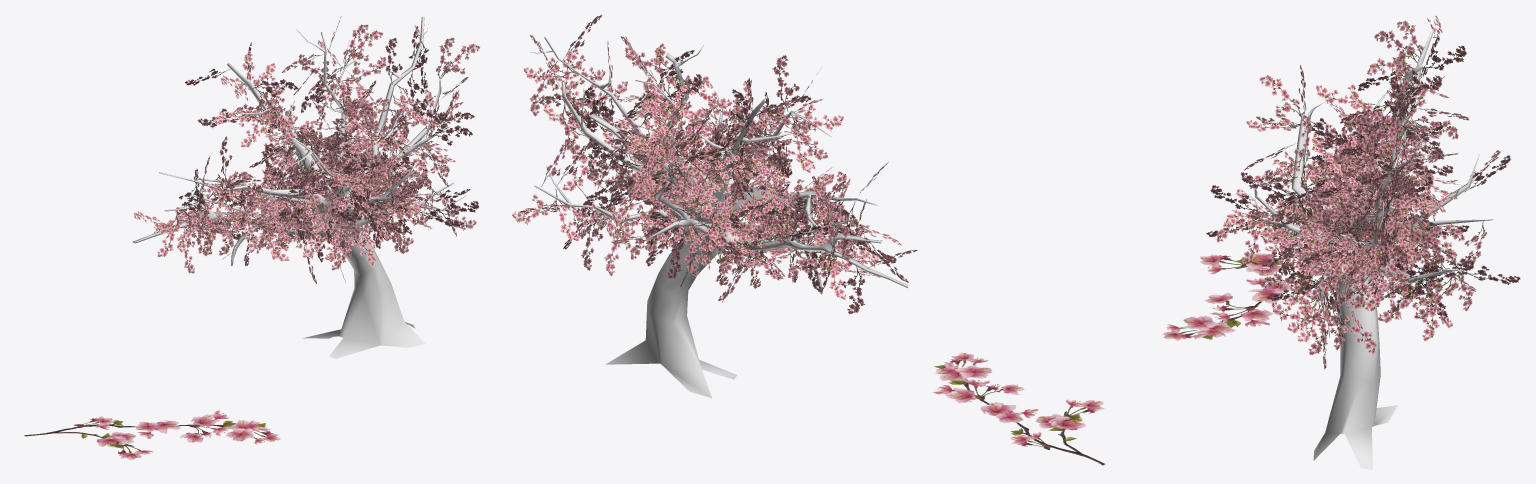
Rendered from CherryBlossomTree_test.fbx.
3 views of the same model, side by side, from view 1: azimuth 30°, elevation 25°; view 2: azimuth 150°, elevation 25°; view 3: azimuth 270°, elevation 25° (orthographic). The views are drawn at different scales.
Visible parts, largest first — view 1: Cube, cherry blossom branch transparent; view 2: Cube, cherry blossom branch transparent; view 3: Cube, cherry blossom branch transparent, Cube|cherry blossom branch transparent|Dupli|293, Cube|cherry blossom branch transparent|Dupli|419, Cube|cherry blossom branch transparent|Dupli|384, Cube|cherry blossom branch transparent|Dupli|341, Cube|cherry blossom branch transparent|Dupli|387, Cube|cherry blossom branch transparent|Dupli|455, Cube|cherry blossom branch transparent|Dupli|481, Cube|cherry blossom branch transparent|Dupli|141, Cube|cherry blossom branch transparent|Dupli|438, Cube|cherry blossom branch transparent|Dupli|483 (+14 smaller).
Boxes of the visible parts, x1,y1,x2,y2 form: Cube: (132,16,466,358); cherry blossom branch transparent: (24,410,280,460); Cube: (530,37,907,398); cherry blossom branch transparent: (932,352,1104,465); Cube: (1241,29,1493,469); cherry blossom branch transparent: (1163,251,1323,340); Cube|cherry blossom branch transparent|Dupli|293: (1369,110,1407,161); Cube|cherry blossom branch transparent|Dupli|419: (1259,75,1301,117); Cube|cherry blossom branch transparent|Dupli|384: (1377,279,1421,323); Cube|cherry blossom branch transparent|Dupli|341: (1316,240,1349,293); Cube|cherry blossom branch transparent|Dupli|387: (1411,279,1439,341); Cube|cherry blossom branch transparent|Dupli|455: (1408,231,1459,269); Cube|cherry blossom branch transparent|Dupli|481: (1304,296,1331,355); Cube|cherry blossom branch transparent|Dupli|141: (1315,84,1375,109); Cube|cherry blossom branch transparent|Dupli|438: (1260,272,1316,301); Cube|cherry blossom branch transparent|Dupli|483: (1271,298,1322,325).
Size of the model in its own units: 1718 by 1054 by 928.
Materials: 1 (1 with a texture image).
